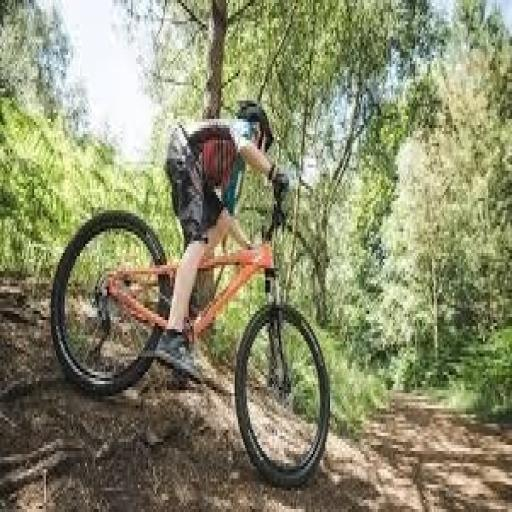cycling: (153, 95, 293, 387)
